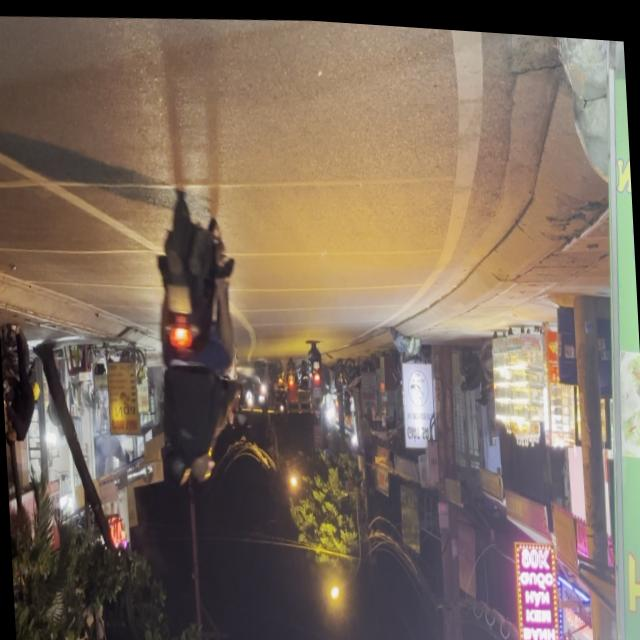licenseplate: (144, 189, 250, 525)
nohelmet: (165, 284, 190, 313)
